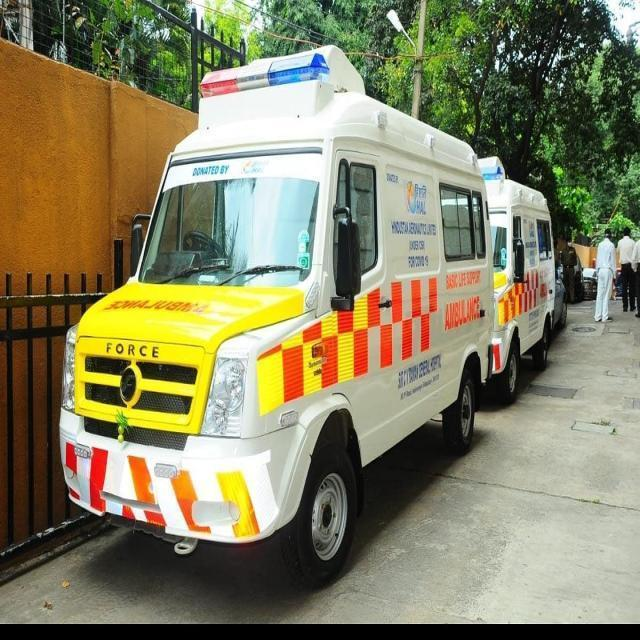Ambulance: (51, 41, 571, 595), (0, 287, 639, 626), (475, 155, 567, 405), (589, 227, 619, 325)
